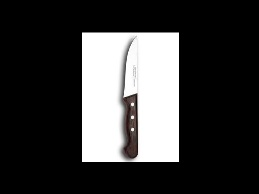k1: (121, 35, 140, 106)
